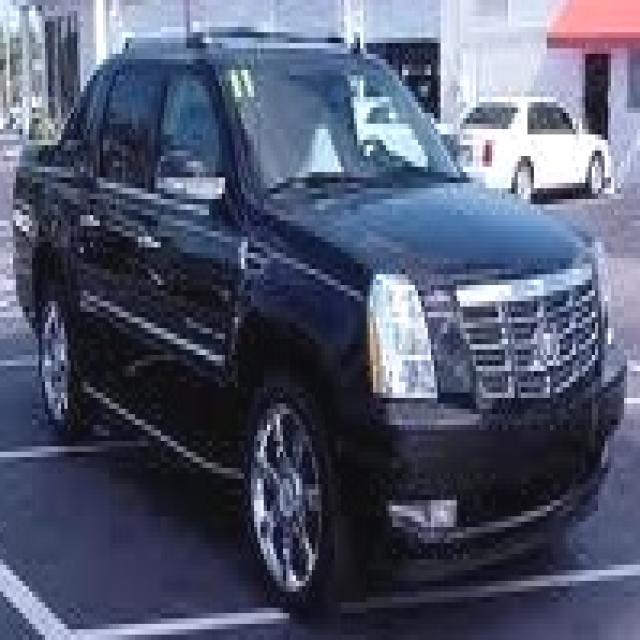CMT: (8, 27, 620, 572)
